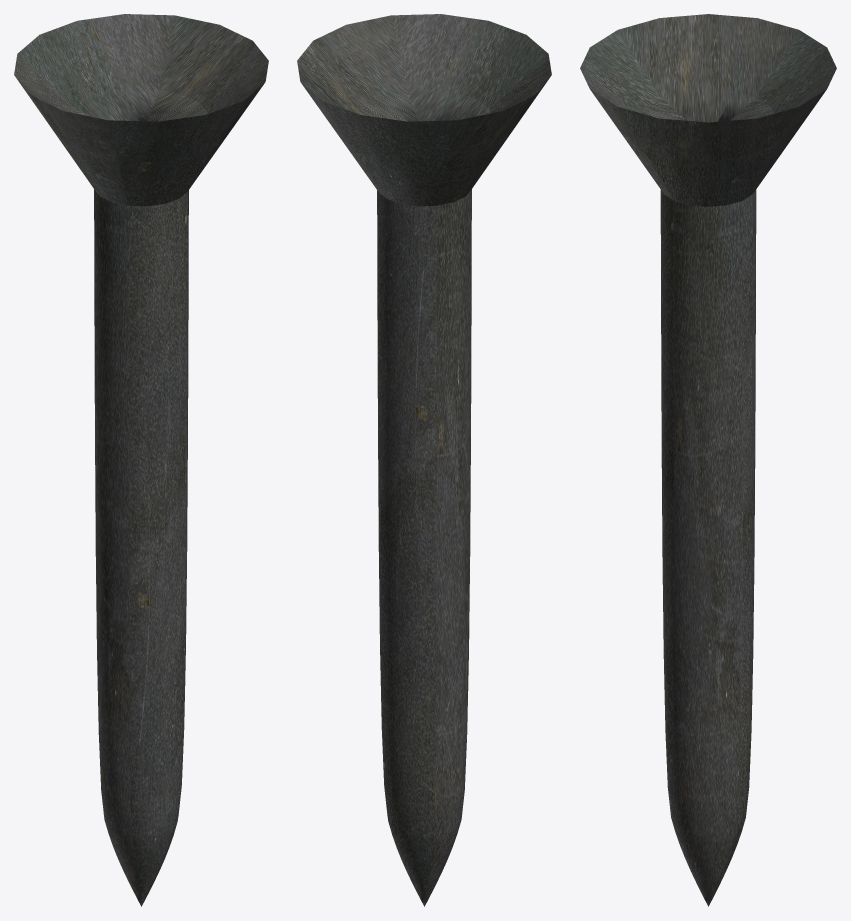
Rendered from torch1.FBX.
3 views of the same model, side by side, from view 1: azimuth 30°, elevation 25°; view 2: azimuth 150°, elevation 25°; view 3: azimuth 270°, elevation 25° (orthographic).
Parts seen in each view (by area): view 1: Line001; view 2: Line001; view 3: Line001.
Boxes of the visible parts, x1,y1,x2,y2 form: Line001: (14, 14, 268, 906); Line001: (297, 14, 551, 906); Line001: (580, 14, 836, 906).
Size of the model in its own units: 21.09 by 75.96 by 21.09.
1 material, 1 textured.
